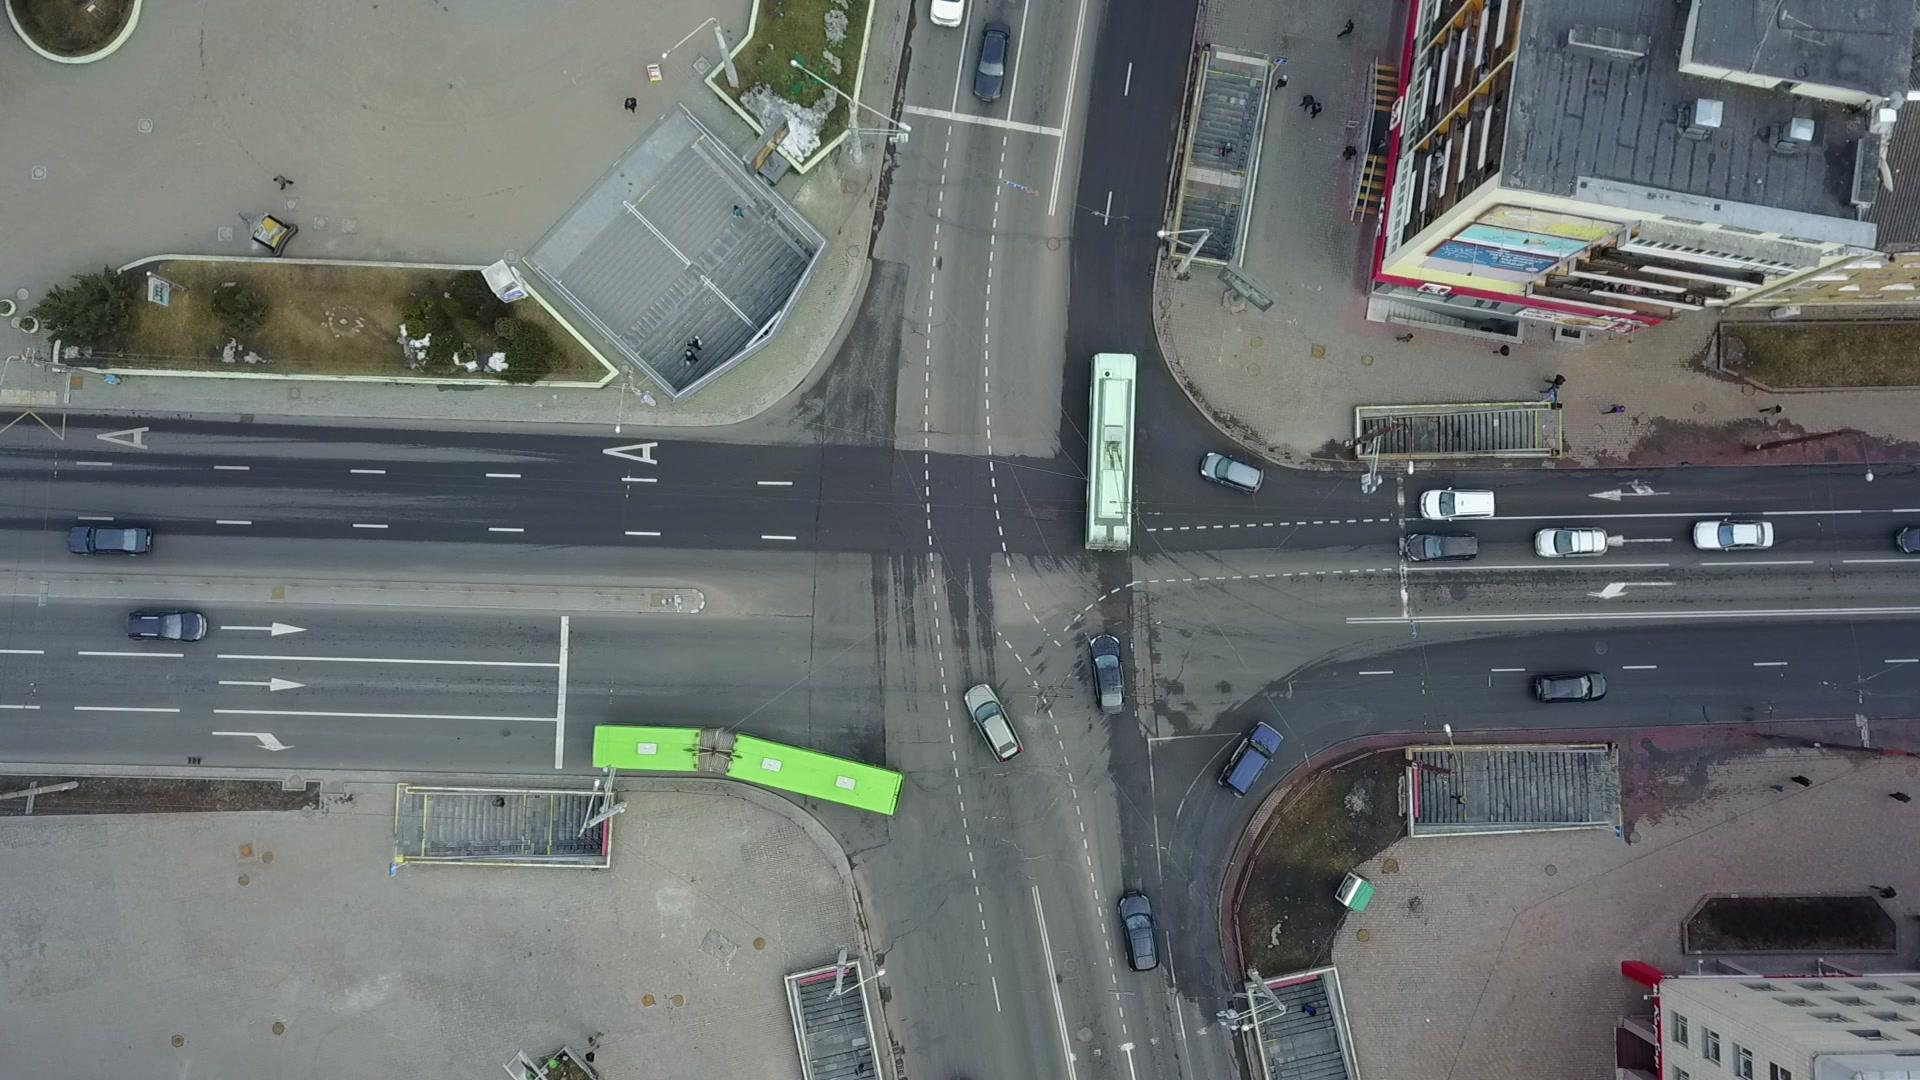car: (1215, 720, 1284, 796), (961, 682, 1025, 764), (1116, 889, 1160, 973), (971, 20, 1011, 105), (1088, 633, 1127, 715), (124, 607, 208, 642), (1692, 517, 1776, 553), (66, 524, 156, 556), (1527, 669, 1610, 703), (1197, 450, 1265, 492), (1402, 527, 1480, 563), (1534, 524, 1610, 559)
